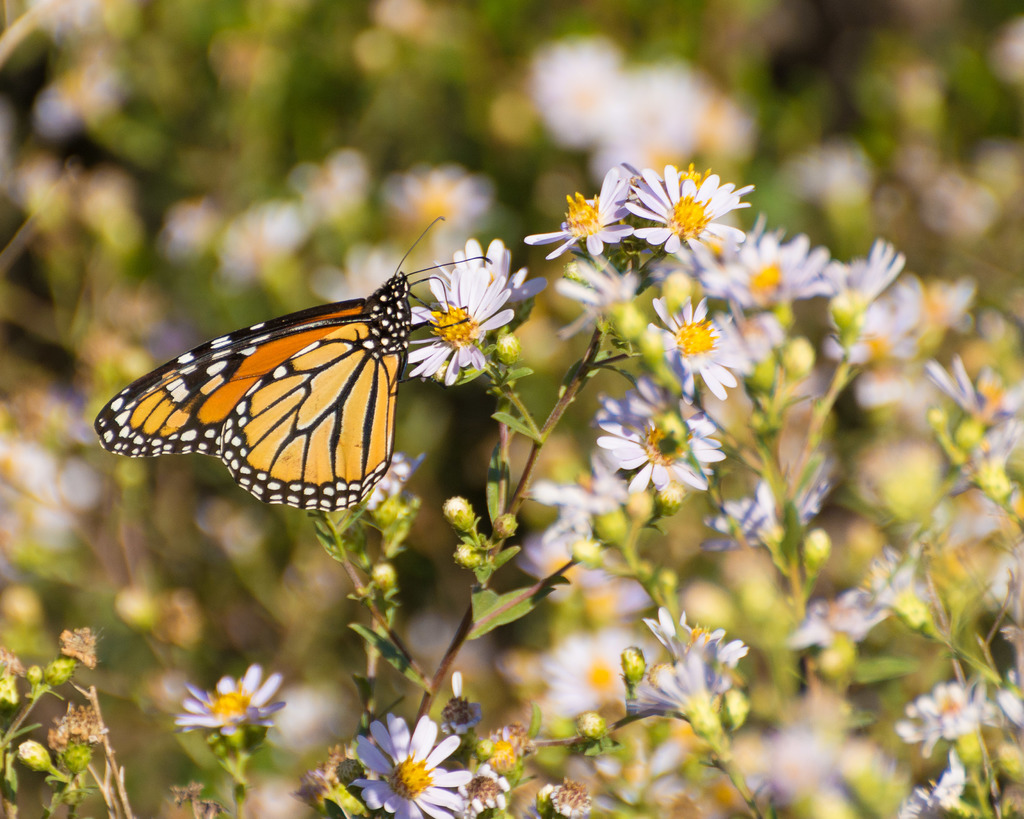Butterfly: (91, 253, 465, 516)
